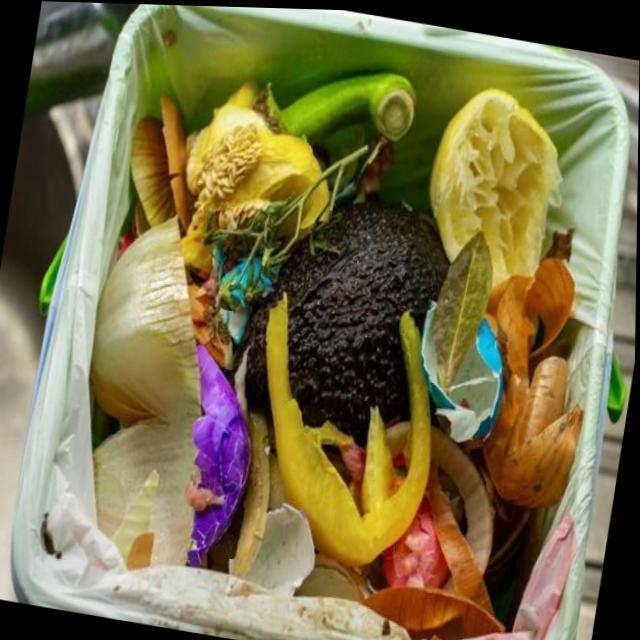Garbage: (96, 67, 590, 640)
Plastic: (189, 344, 252, 565)
contaminated_waste: (189, 344, 252, 565)
